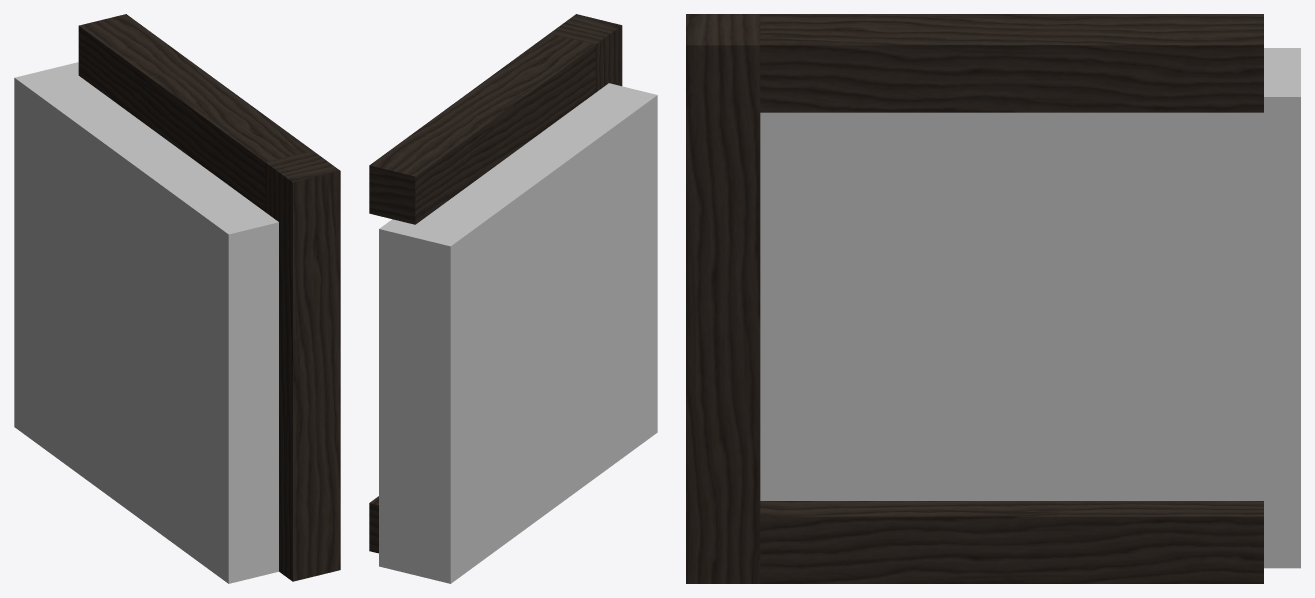
File: FerryModularWallTop.fbx
The picture shows the model from 3 angles, left to right: view 1: azimuth 30°, elevation 25°; view 2: azimuth 150°, elevation 25°; view 3: azimuth 270°, elevation 25°; orthographic projection. The views are drawn at different scales.
Parts seen in each view (by area): view 1: Ferry Wall Top; view 2: Ferry Wall Top; view 3: Ferry Wall Top.
Part boxes in pixels (left/top/right/bottom): Ferry Wall Top: left=14, top=14, right=340, bottom=583; Ferry Wall Top: left=369, top=14, right=657, bottom=583; Ferry Wall Top: left=686, top=14, right=1300, bottom=583.
Size of the model in its own units: 132 by 514 by 532.
